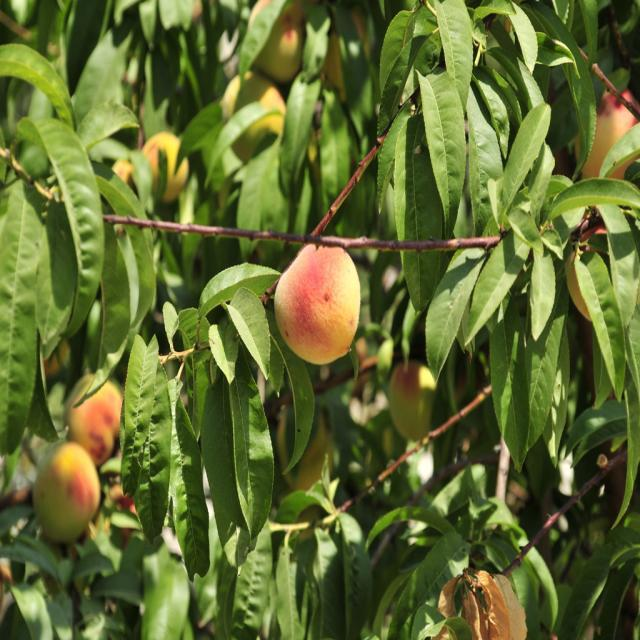Peach: (272, 241, 361, 366), (35, 438, 101, 542), (575, 88, 640, 184), (219, 69, 285, 159), (65, 378, 123, 468), (248, 0, 304, 78), (279, 406, 329, 492), (388, 359, 438, 442), (143, 132, 190, 200), (324, 13, 360, 99), (564, 250, 594, 322), (43, 344, 65, 379), (113, 162, 135, 194)
